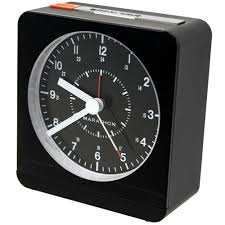alarm_clock: (7, 2, 211, 221), (13, 2, 211, 221)
